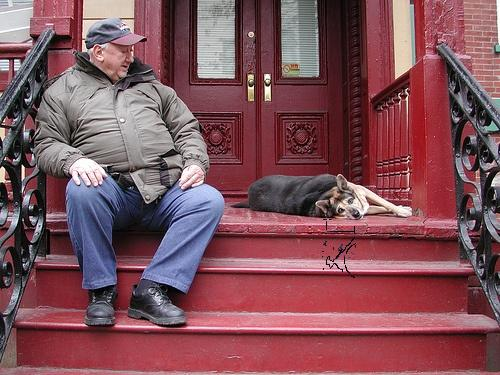tampered: (323, 220, 356, 278)
